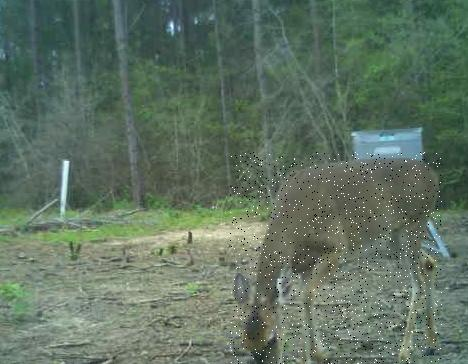Deer: (230, 152, 442, 364)
